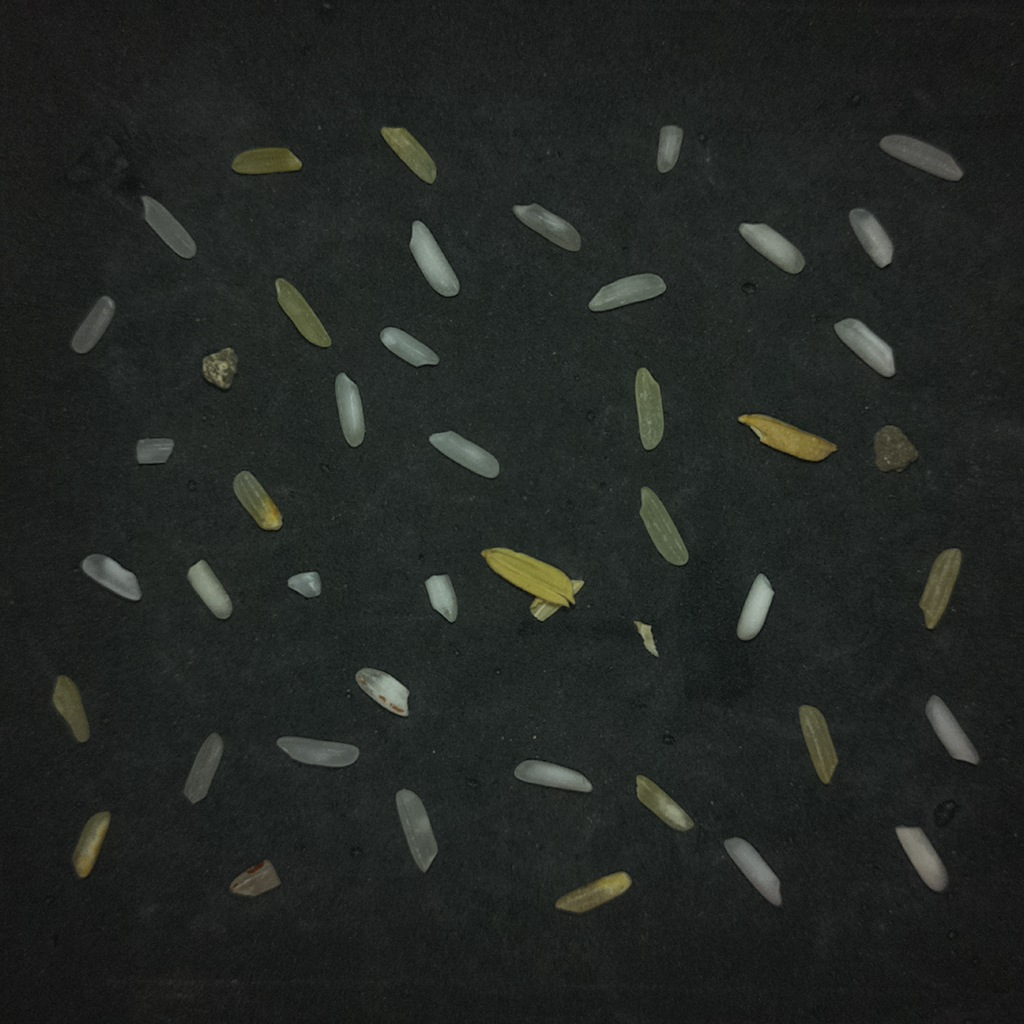broken: (834, 318, 895, 377), (80, 554, 141, 600), (71, 295, 115, 353), (425, 574, 458, 623), (656, 125, 683, 172), (136, 438, 173, 464), (633, 620, 658, 656), (287, 572, 321, 597), (530, 597, 565, 621)
chalky: (723, 837, 781, 906), (409, 220, 459, 296), (925, 695, 979, 764), (895, 826, 947, 891), (739, 223, 805, 274), (187, 560, 233, 620), (514, 759, 592, 792), (849, 208, 892, 267), (736, 573, 773, 640), (380, 327, 439, 366), (335, 373, 364, 446)
discolored: (275, 278, 331, 347), (640, 486, 688, 565), (919, 549, 961, 629), (555, 871, 631, 913), (636, 775, 693, 831), (381, 127, 436, 183), (799, 706, 837, 783), (234, 471, 282, 530), (72, 811, 110, 878), (52, 675, 89, 742), (634, 367, 663, 450), (231, 147, 301, 174)
foreign: (874, 425, 918, 471), (202, 346, 238, 390)
paddy: (481, 548, 574, 606), (738, 414, 836, 460)
red: (355, 668, 408, 716), (230, 860, 280, 896)
whole: (879, 134, 962, 180), (396, 789, 437, 872), (141, 195, 195, 258), (428, 431, 499, 478), (512, 205, 581, 251), (588, 273, 665, 311), (183, 733, 223, 803), (276, 736, 357, 767)
